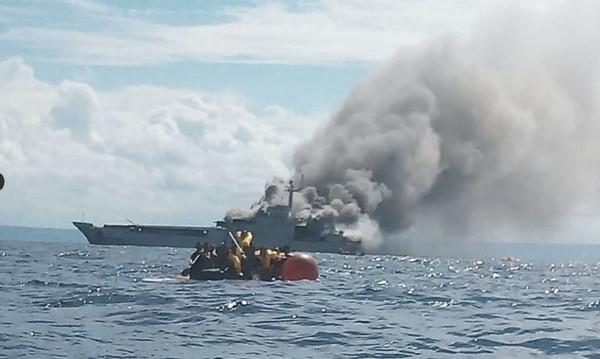MIL_Ship: (74, 173, 369, 252)
